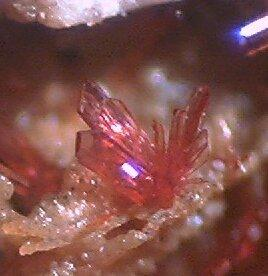erythrite: (76, 83, 209, 216)
